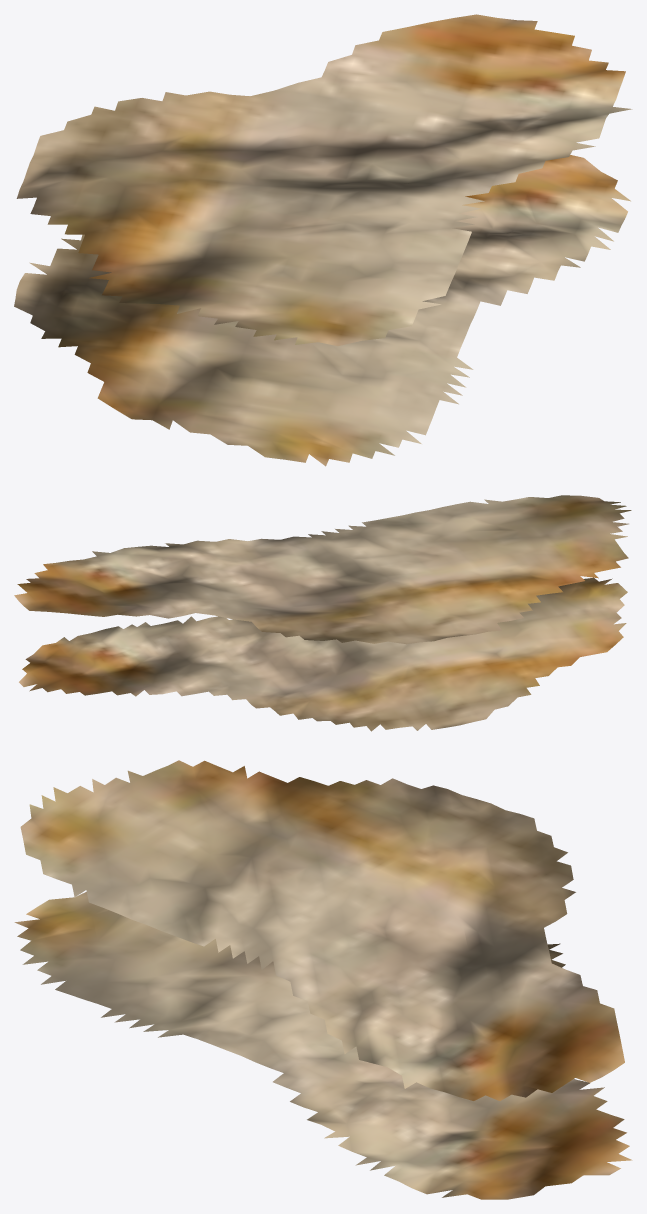
Rendered from beef-0.glb.
The picture shows the model from 3 angles, top to bottom: view 1: azimuth 30°, elevation 25°; view 2: azimuth 150°, elevation 25°; view 3: azimuth 270°, elevation 25°; orthographic projection. The views are drawn at different scales.
Visible parts, largest first — view 1: fetta di pollo_Default OBJ_0; view 2: fetta di pollo_Default OBJ_0; view 3: fetta di pollo_Default OBJ_0.
Part boxes in pixels (x1,y1,x2,y2): fetta di pollo_Default OBJ_0: (14,14,632,466); fetta di pollo_Default OBJ_0: (14,495,631,731); fetta di pollo_Default OBJ_0: (14,760,632,1199).
Bounding box in the file's own units: 0.04 × 0.00965 × 0.0354.
1 material, 1 textured.
